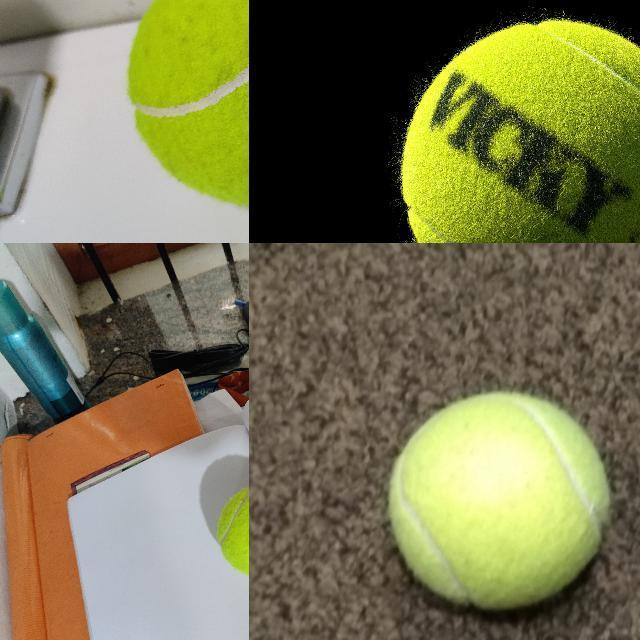tennis-ball: (399, 19, 639, 242), (389, 392, 611, 611), (125, 0, 248, 209), (216, 482, 248, 578)
